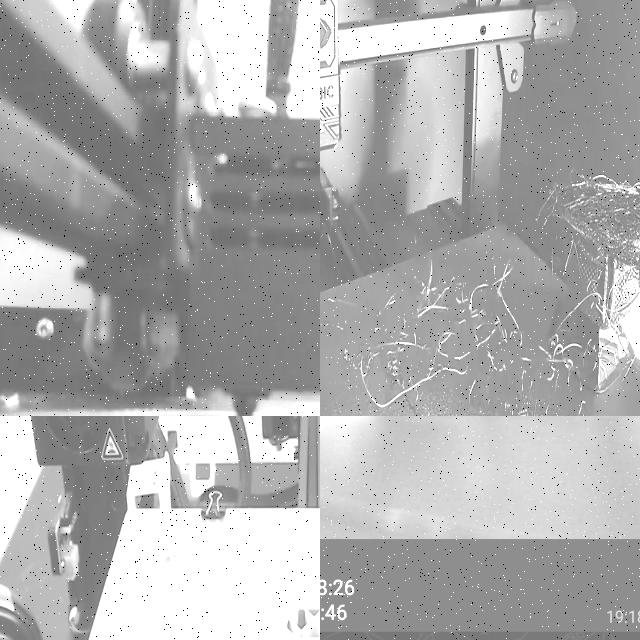spaghetti: (320, 249, 528, 416), (528, 172, 640, 392), (526, 349, 631, 416)
